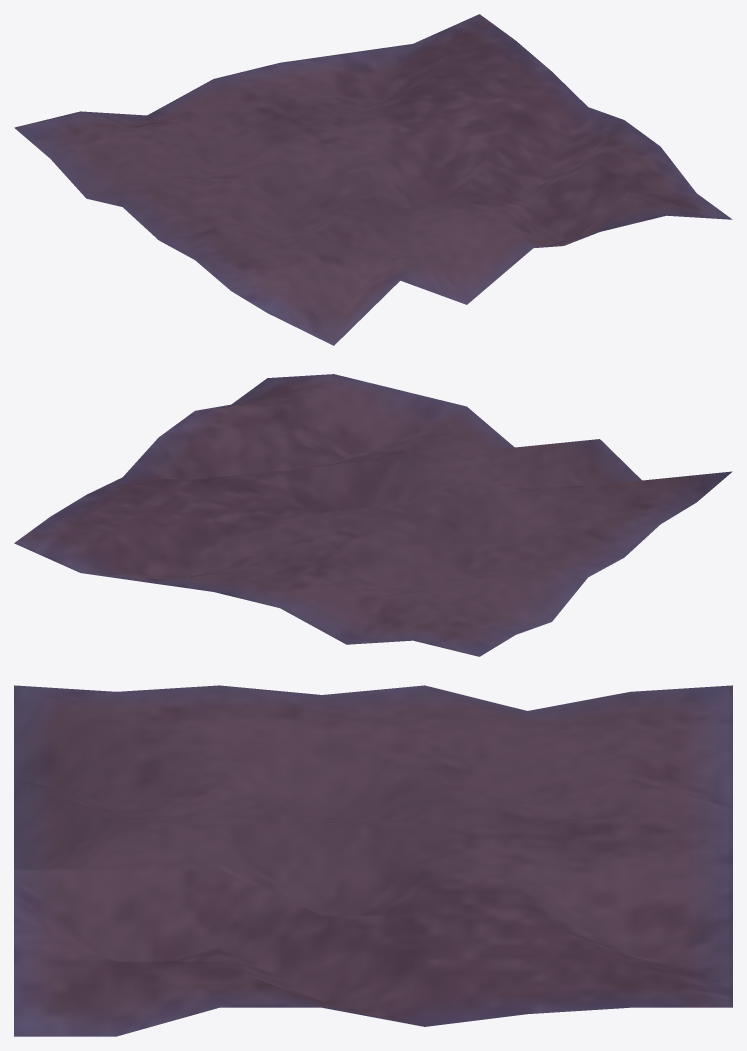
The model's file is Rice_Burnt.fbx.
3 views of the same model, one above another, from view 1: azimuth 30°, elevation 25°; view 2: azimuth 150°, elevation 25°; view 3: azimuth 270°, elevation 25° (orthographic). The views are drawn at different scales.
Visible parts, largest first — view 1: Rice_Burnt; view 2: Rice_Burnt; view 3: Rice_Burnt.
Part boxes in pixels (left/top/right/bottom): Rice_Burnt: left=14, top=14, right=732, bottom=345; Rice_Burnt: left=14, top=374, right=732, bottom=656; Rice_Burnt: left=14, top=685, right=732, bottom=1036.
Size of the model in its own units: 82.48 by 8.3 by 77.75.
